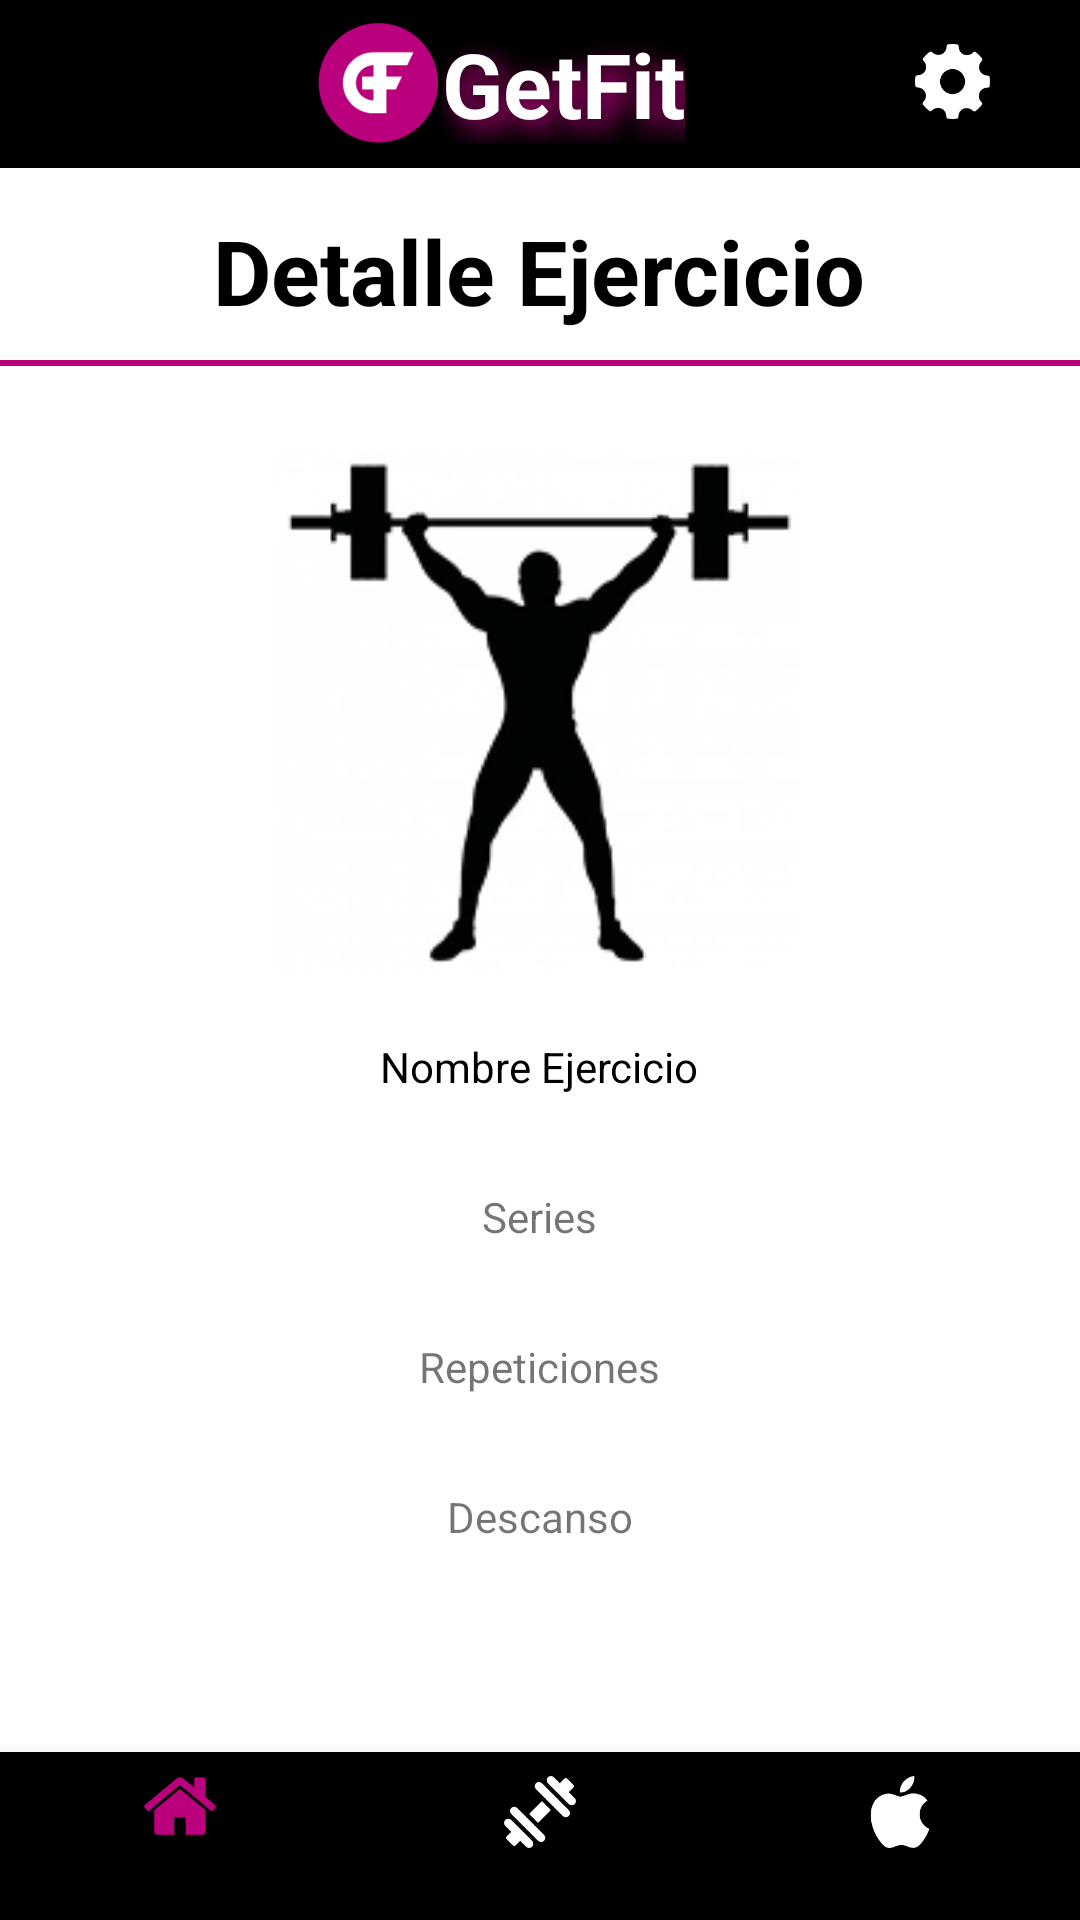

Where icons sit on this 1080 × 1920 app screen, as (x1, y1, x2, y2):
ajustes: (915, 44, 990, 119)
